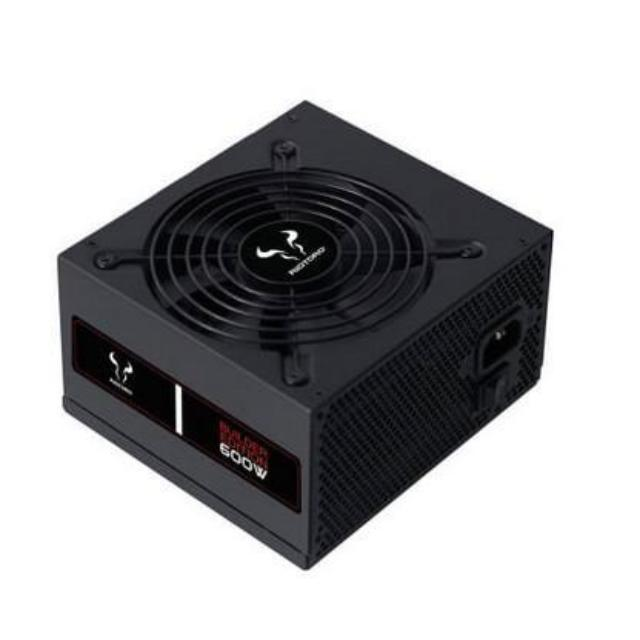PSU: (52, 81, 560, 579)
